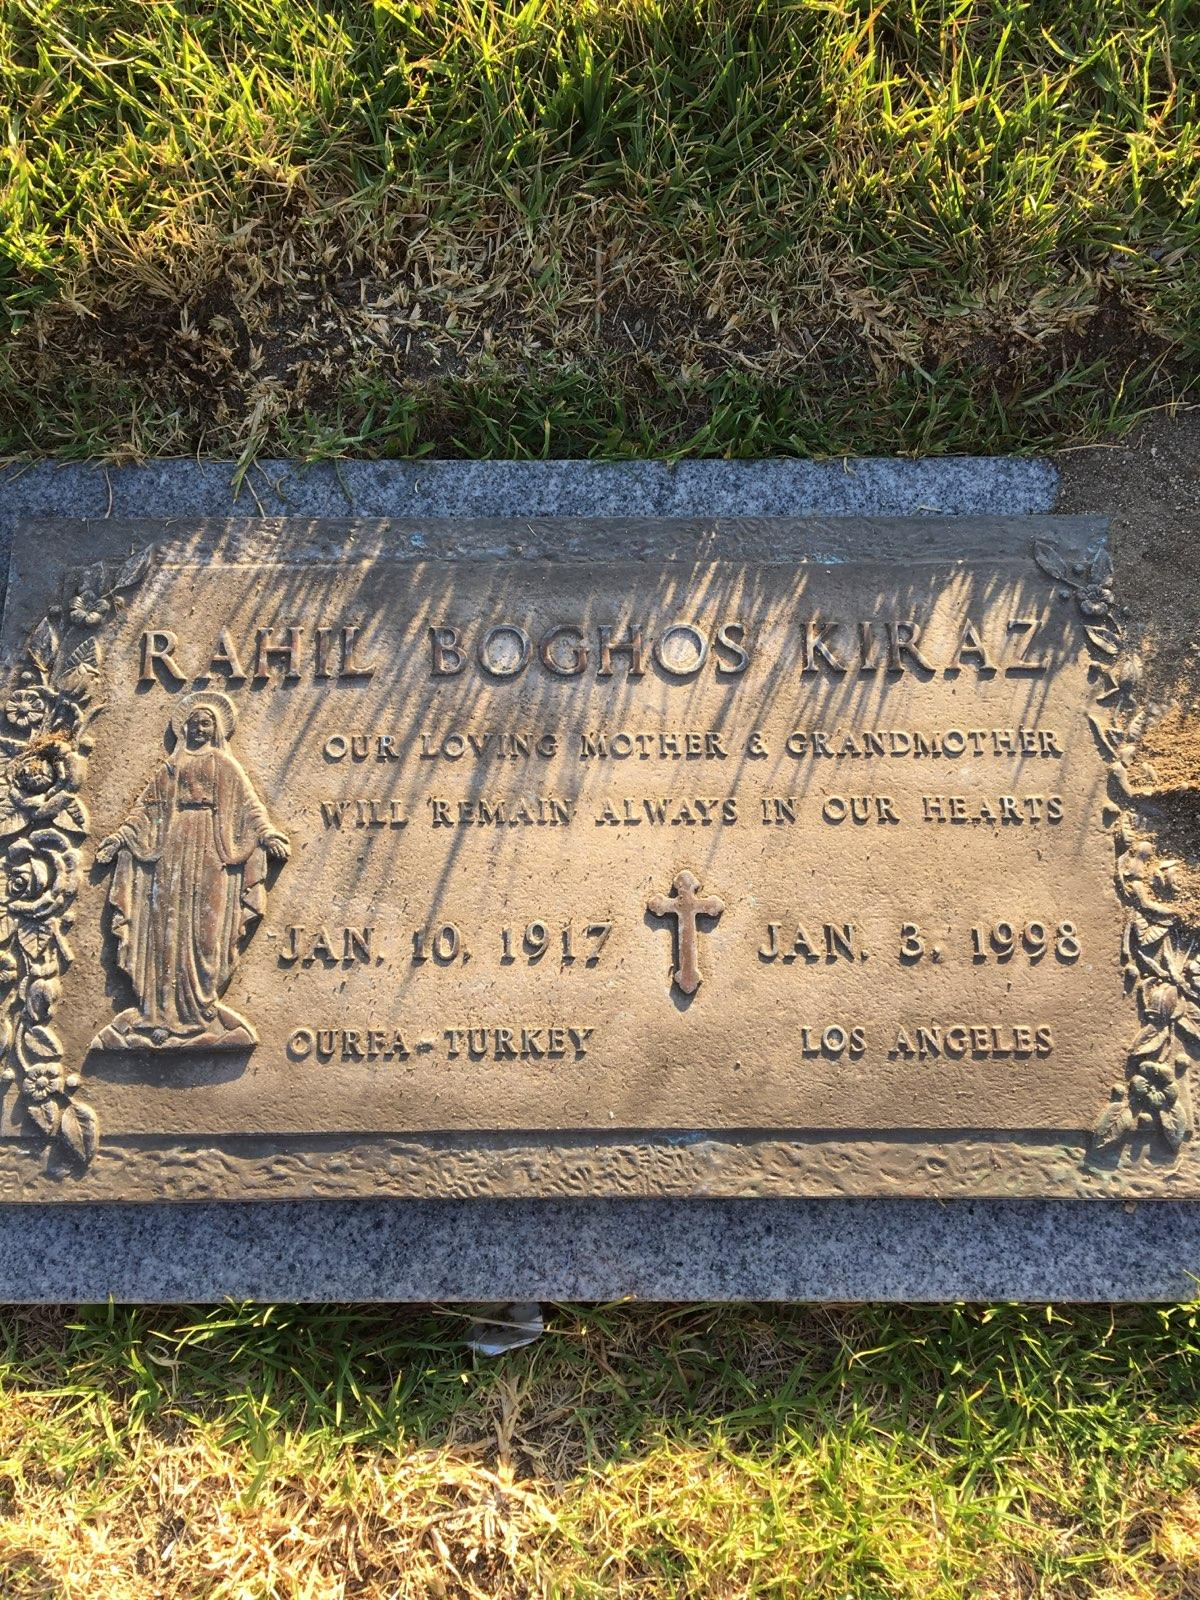flat: (5, 471, 1200, 1306)
